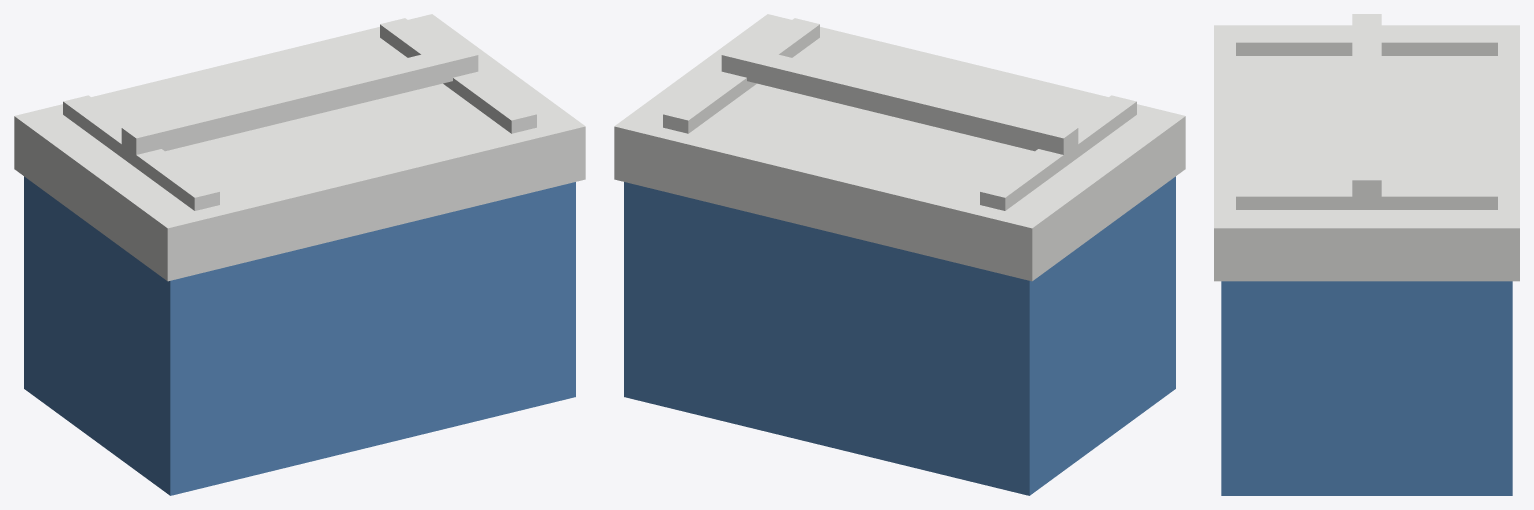
File: SM_Cooler.fbx
The picture shows the model from 3 angles, left to right: view 1: azimuth 30°, elevation 25°; view 2: azimuth 150°, elevation 25°; view 3: azimuth 270°, elevation 25°; orthographic projection.
Parts seen in each view (by area): view 1: SM_Cooler; view 2: SM_Cooler; view 3: SM_Cooler.
Boxes of the visible parts, bbox=[...] form: SM_Cooler: bbox=[14, 14, 585, 495]; SM_Cooler: bbox=[614, 14, 1185, 495]; SM_Cooler: bbox=[1214, 14, 1519, 495].
Size of the model in its own units: 0.66 by 0.455 by 0.42.
